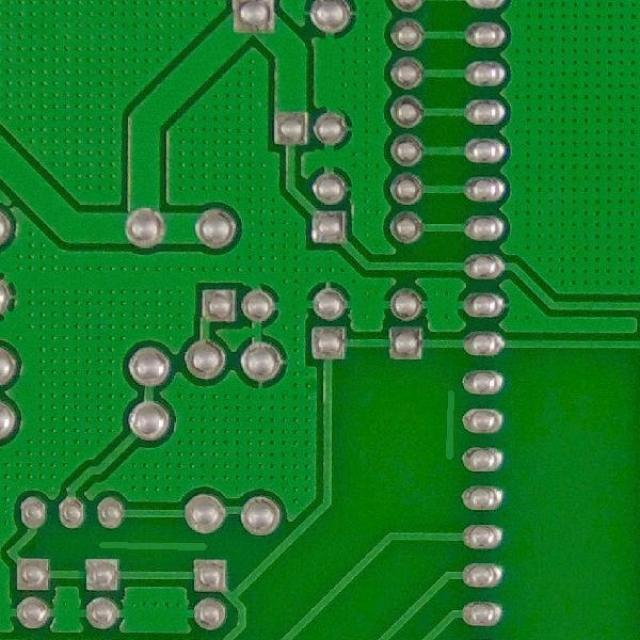spurious_copper: (96, 522, 218, 568), (431, 384, 479, 466)
